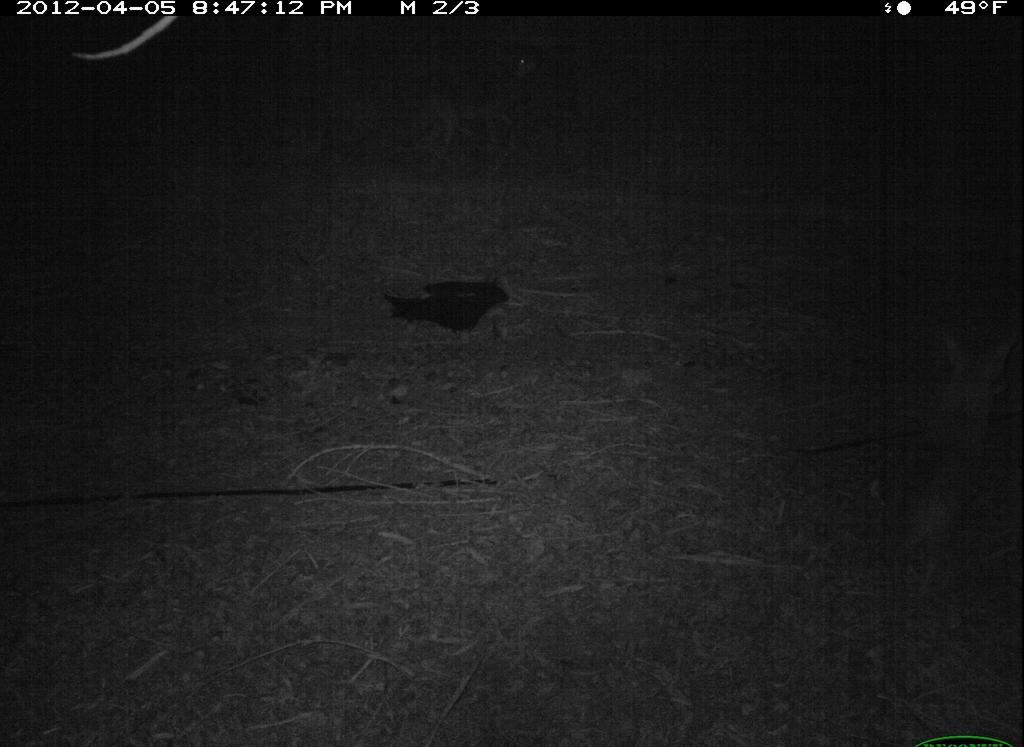coyote: (890, 309, 1019, 589)
